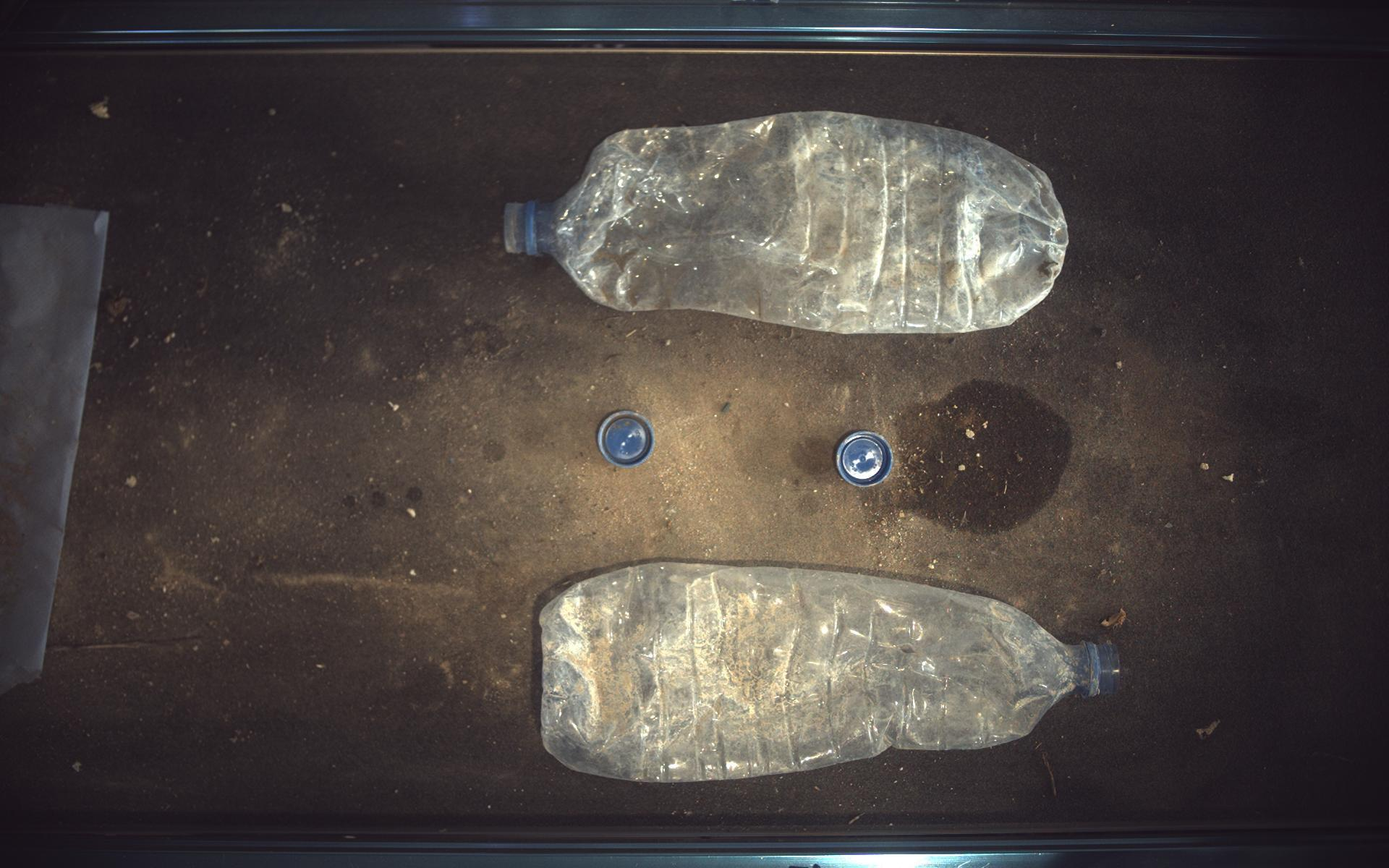general_w: (540, 563, 1122, 784), (504, 111, 1071, 333), (837, 430, 895, 488), (597, 411, 655, 468)
